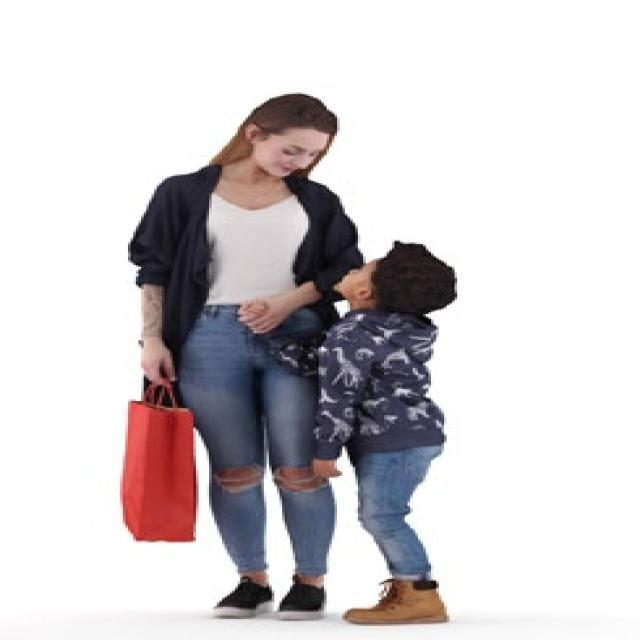standing: (128, 89, 340, 625), (320, 239, 470, 632)
